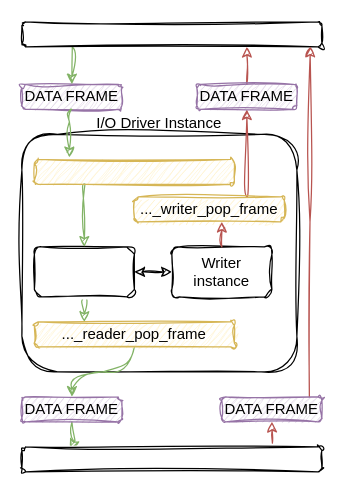
The diagram is 344 pixels wide and 494 high, and some of its shapes have lost their labels. Here are the shapes that lost their labels. From the top down, the centre of each, then its label:
pixel 171 34: PHYSICAL I/ O LAYER
pixel 133 171: ..._reader_push_frame
pixel 83 271: Reader instance
pixel 171 459: Chain of I/O Driver I nstances
